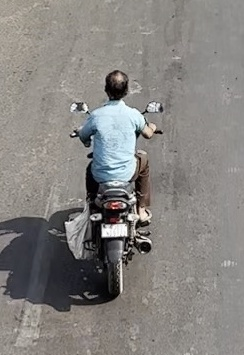BikeWithRider: (59, 65, 168, 301)
NoHelmet: (97, 65, 134, 105)
